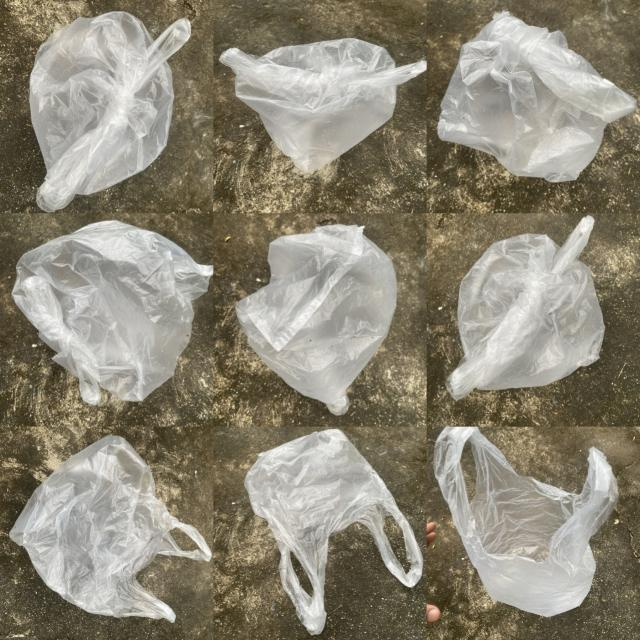Single-layer Plastic: (10, 436, 211, 622), (244, 429, 422, 635), (12, 221, 212, 404), (434, 428, 619, 616), (438, 11, 636, 182), (30, 11, 191, 212), (236, 224, 396, 415), (446, 216, 605, 399), (219, 39, 426, 172)
